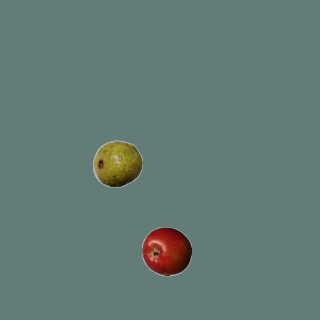Apple Braeburn: (141, 226, 191, 276)
Guava: (92, 138, 142, 188)
